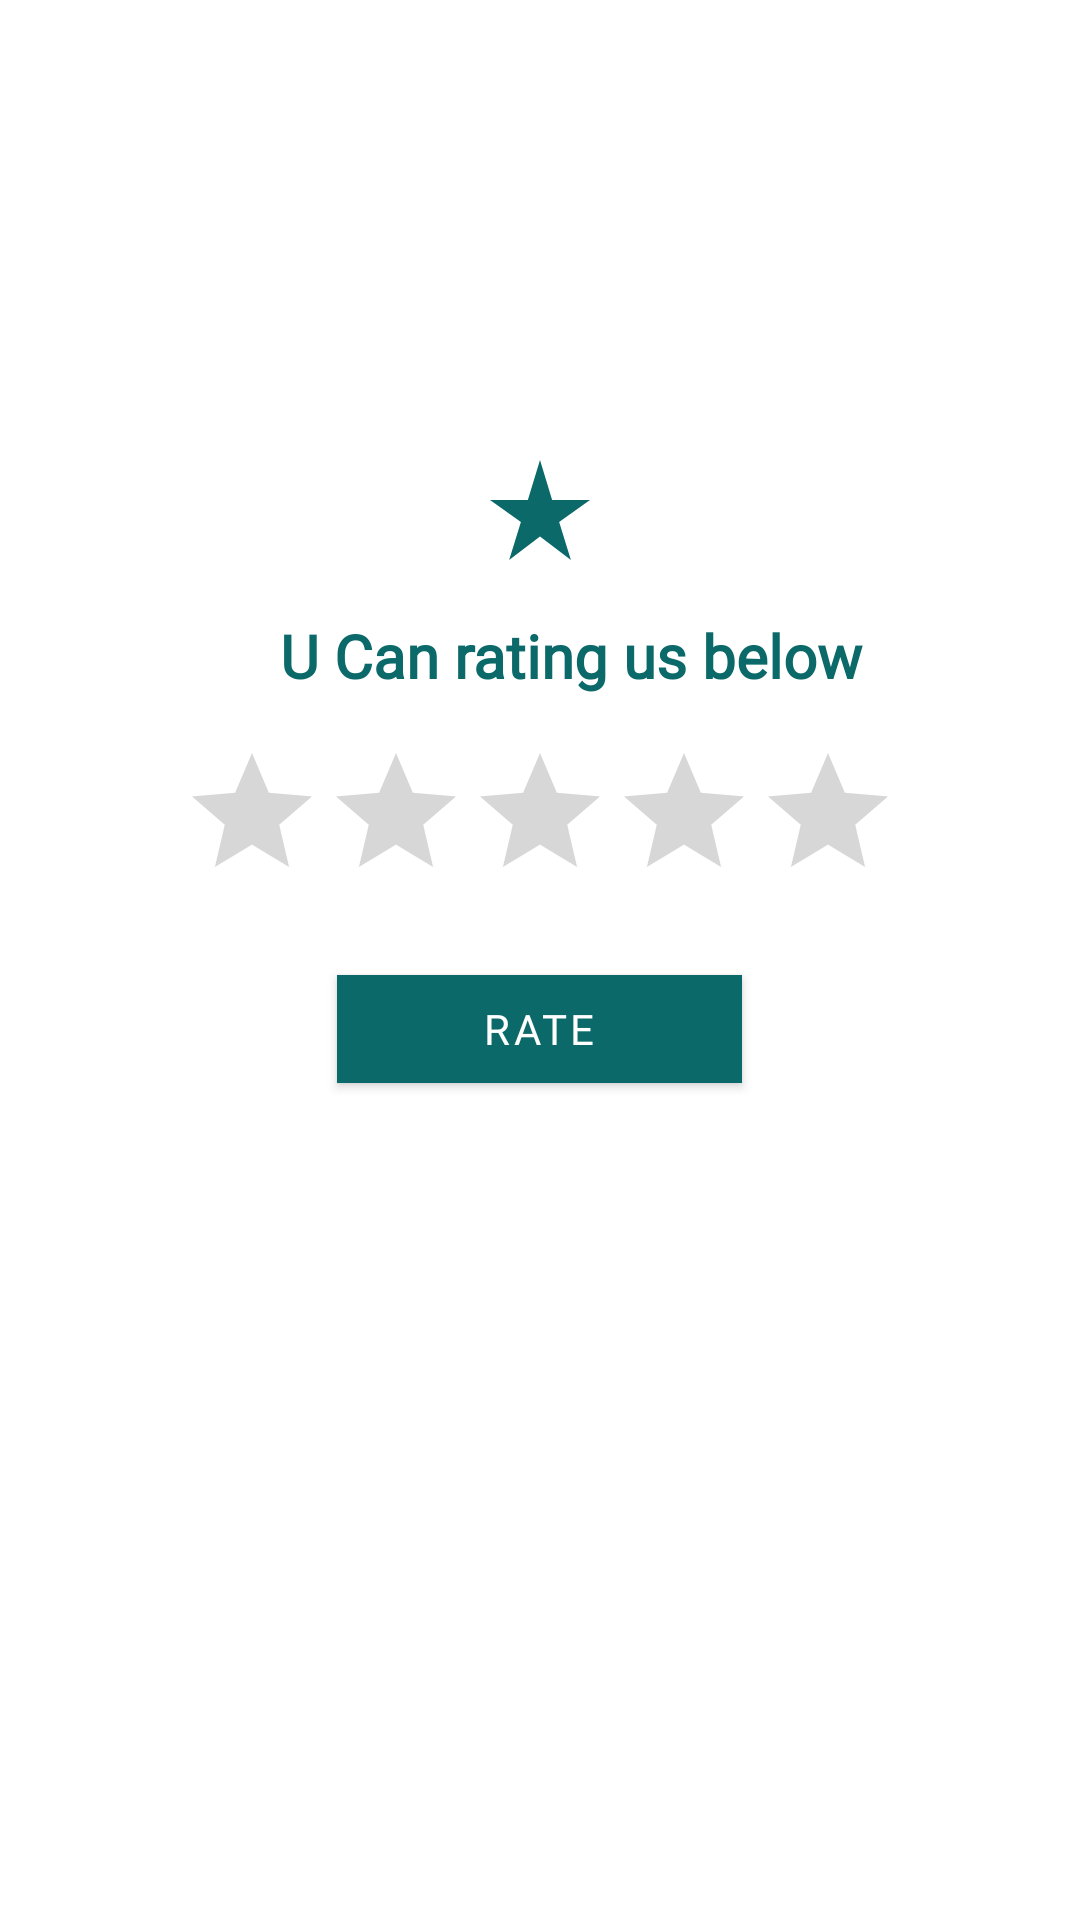

Icons on this 1080*1920 Android screen, each with its box as (x1, y1, x2, y2):
star rate: (490, 460, 590, 560)
